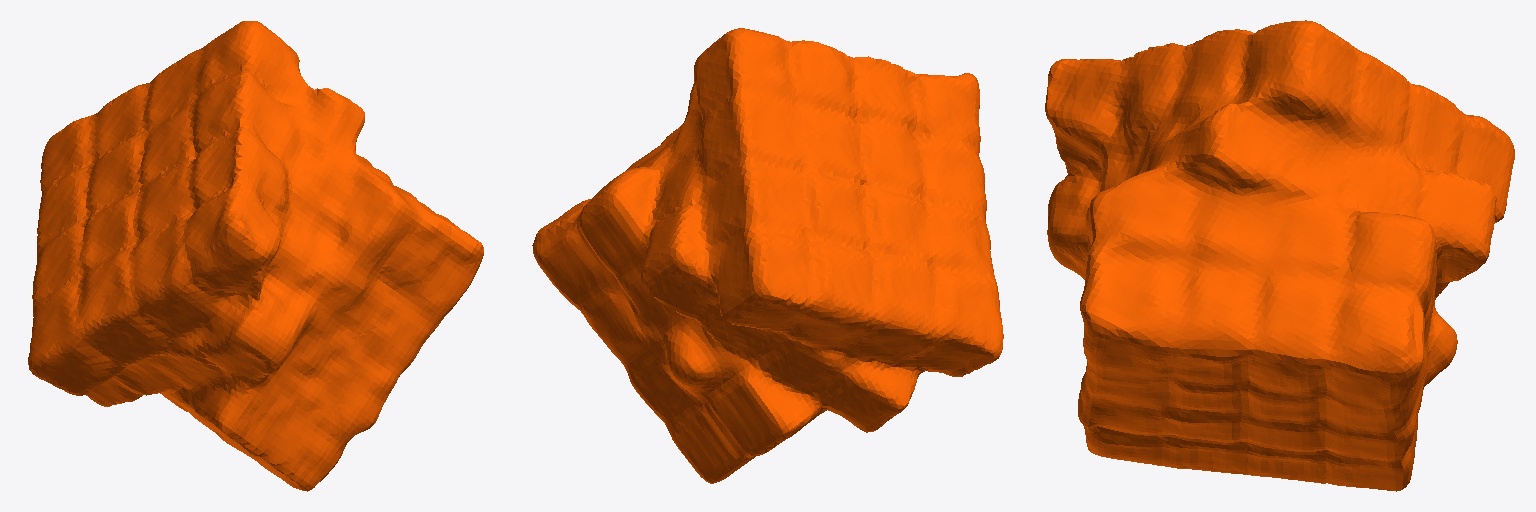
The robot description file, URDF, robot "91d2cd532":
<?xml version="1.0" ?>
<robot name="91d2cd532">
   <material name="obj_color">
      <color rgba="1.0 0.423529411765 0.0392156862745 1.0"/>
   </material>
   <link name="top">
      <inertial>
         <origin rpy="0.0004665987308282909 0.0004755203952080548 0.0004792852119558286" xyz="0.00337127428619239 -0.002874659110809215 -0.003852267398682762"/>
         <mass value="0.4669617508372882"/>
         <inertia ixx="0.0004668972101489879" ixy="-1.076365318562603e-06" ixz="-1.291743431654266e-06" iyy="0.0004791305033511703" iyz="-5.927656696872763e-07" izz="0.0004753766244920164"/>
      </inertial>
      <visual>
         <origin rpy="0 0 0" xyz="0 0 0"/>
         <geometry>
            <mesh filename="top_watertight_tiny.stl" scale="1 1 1"/>
         </geometry>
         <material name="obj_color"/>
      </visual>
      <collision>
         <origin rpy="0 0 0" xyz="0 0 0"/>
         <geometry>
            <mesh filename="top_watertight_tiny.obj" scale="1 1 1"/>
         </geometry>
      </collision>
   </link>
   <link name="bottom">
      <inertial>
         <origin rpy="1.633333333199431e-08 1.633333333199431e-08 1.633333333362855e-08" xyz="0.3464080000000008 0.3464080000000008 0.3464080000000008"/>
         <mass value="0.0009800000000000017"/>
         <inertia ixx="1.633333333253906e-08" ixy="5.447480642029219e-19" ixz="5.447480642029219e-19" iyy="1.633333333253906e-08" iyz="5.447480642029219e-19" izz="1.633333333253906e-08"/>
      </inertial>
      <visual>
         <origin rpy="0 0 0" xyz="0 0 0"/>
         <geometry>
            <mesh filename="bottom_watertight_tiny.stl" scale="1 1 1"/>
         </geometry>
         <material name="obj_color"/>
      </visual>
   </link>
   <joint name="rotation" type="revolute">
      <origin xyz="0 0 0"/>
      <axis xyz="0 0 -1"/>
      <parent link="bottom"/>
      <child link="top"/>
      <dynamics damping="1.0" friction="1.0"/>
      <limit effort="0.1" velocity="0.1" lower="0" upper="0.001"/>
   </joint>
</robot>

--- What the picture shows (computed from the rendered views, not written in the file) ---
The picture shows the robot from 3 angles, left to right: view 1: azimuth 30°, elevation 25°; view 2: azimuth 150°, elevation 25°; view 3: azimuth 270°, elevation 25°; orthographic projection.
Robot: 91d2cd532 — 2 links, 1 joints (1 revolute); root link bottom; default pose: all joints at 0.
Visible links, largest first — view 1: top; view 2: top; view 3: top.
Boxes of the visible links, box(x1,y1,x2,y2) form: top: box(28, 21, 483, 491); top: box(532, 28, 1003, 483); top: box(1045, 20, 1514, 491).
Size in the robot's own frame: 0.1218 by 0.108 by 0.1204 metres.
Meshes: 2 distinct files referenced, 1 mesh visuals loaded (1 binary STL); not drawn: 1 (reference not matched to a file when rendering).